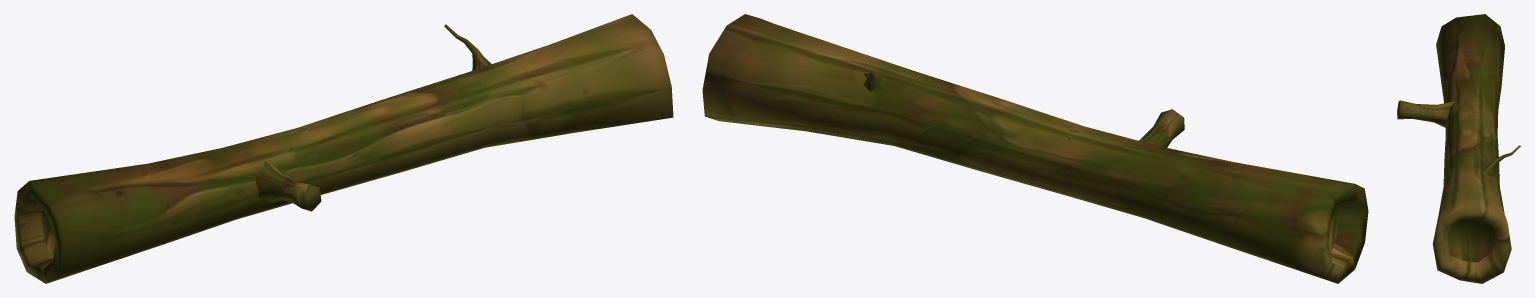
The model's file is Log.fbx.
3 renders of one model, left to right at view 1: azimuth 30°, elevation 25°; view 2: azimuth 150°, elevation 25°; view 3: azimuth 270°, elevation 25°, orthographic. The views are drawn at different scales.
Parts seen in each view (by area): view 1: Log; view 2: Log; view 3: Log.
Boxes of the visible parts, bbox=[...] form: Log: bbox=[14, 14, 673, 283]; Log: bbox=[702, 14, 1368, 283]; Log: bbox=[1397, 14, 1520, 283].
Bounding box in the file's own units: 710 × 133 × 173.
